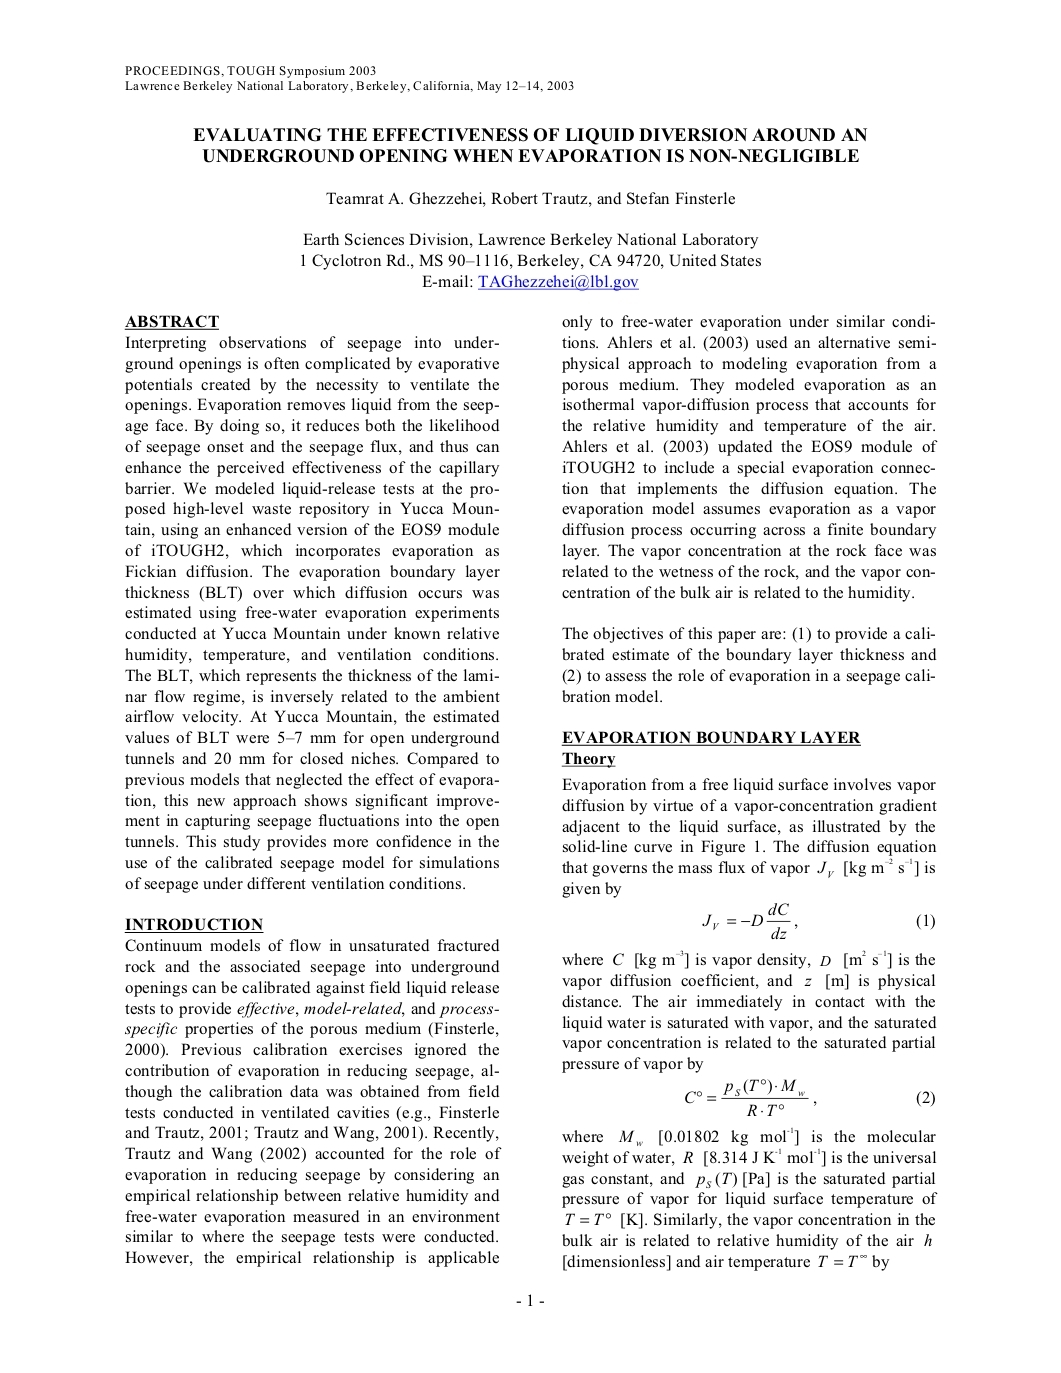formula: (685, 1078, 934, 1116), (702, 902, 934, 939)
